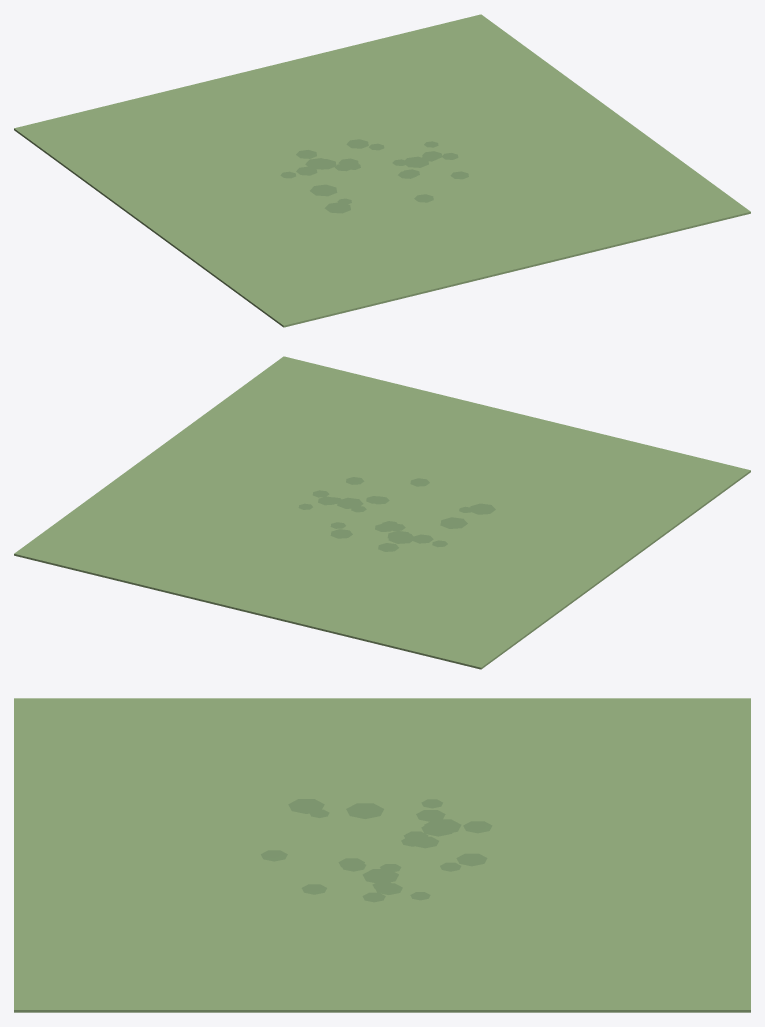
The model's file is ground.gltf.
3 views of the same model, one above another, from view 1: azimuth 30°, elevation 25°; view 2: azimuth 150°, elevation 25°; view 3: azimuth 270°, elevation 25° (orthographic). The views are drawn at different scales.
Parts seen in each view (by area): view 1: wildlands-prop; view 2: wildlands-prop; view 3: wildlands-prop.
Boxes of the visible parts, <box> form: wildlands-prop: <box>14,14,750,327</box>; wildlands-prop: <box>14,356,750,669</box>; wildlands-prop: <box>14,698,750,1012</box>.
Size of the model in its own units: 260 by 1.01 by 260.
